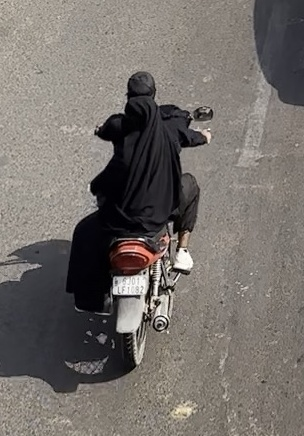BikeWithRider: (58, 64, 218, 375)
NoHelmet: (118, 66, 163, 111)
